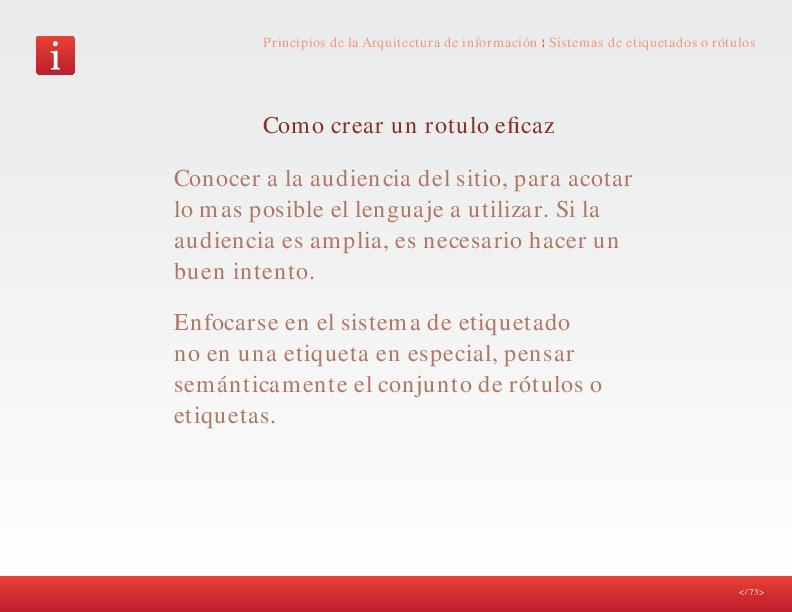paragraph: (155, 163, 686, 446)
subtitle: (255, 106, 584, 145)
title: (255, 24, 773, 61)
